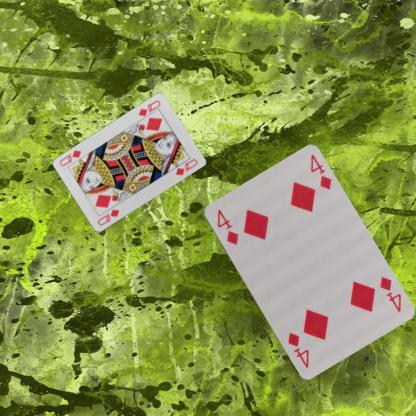4d: (214, 206, 240, 246), (377, 273, 402, 313)
Qd: (136, 98, 162, 122), (95, 207, 120, 227)
